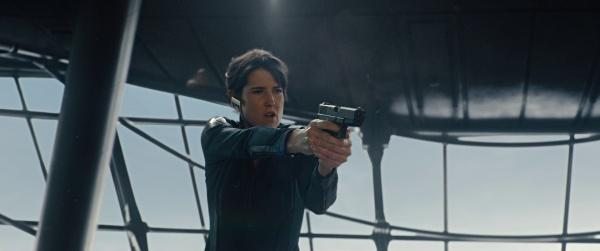Gun: (317, 100, 365, 142)
